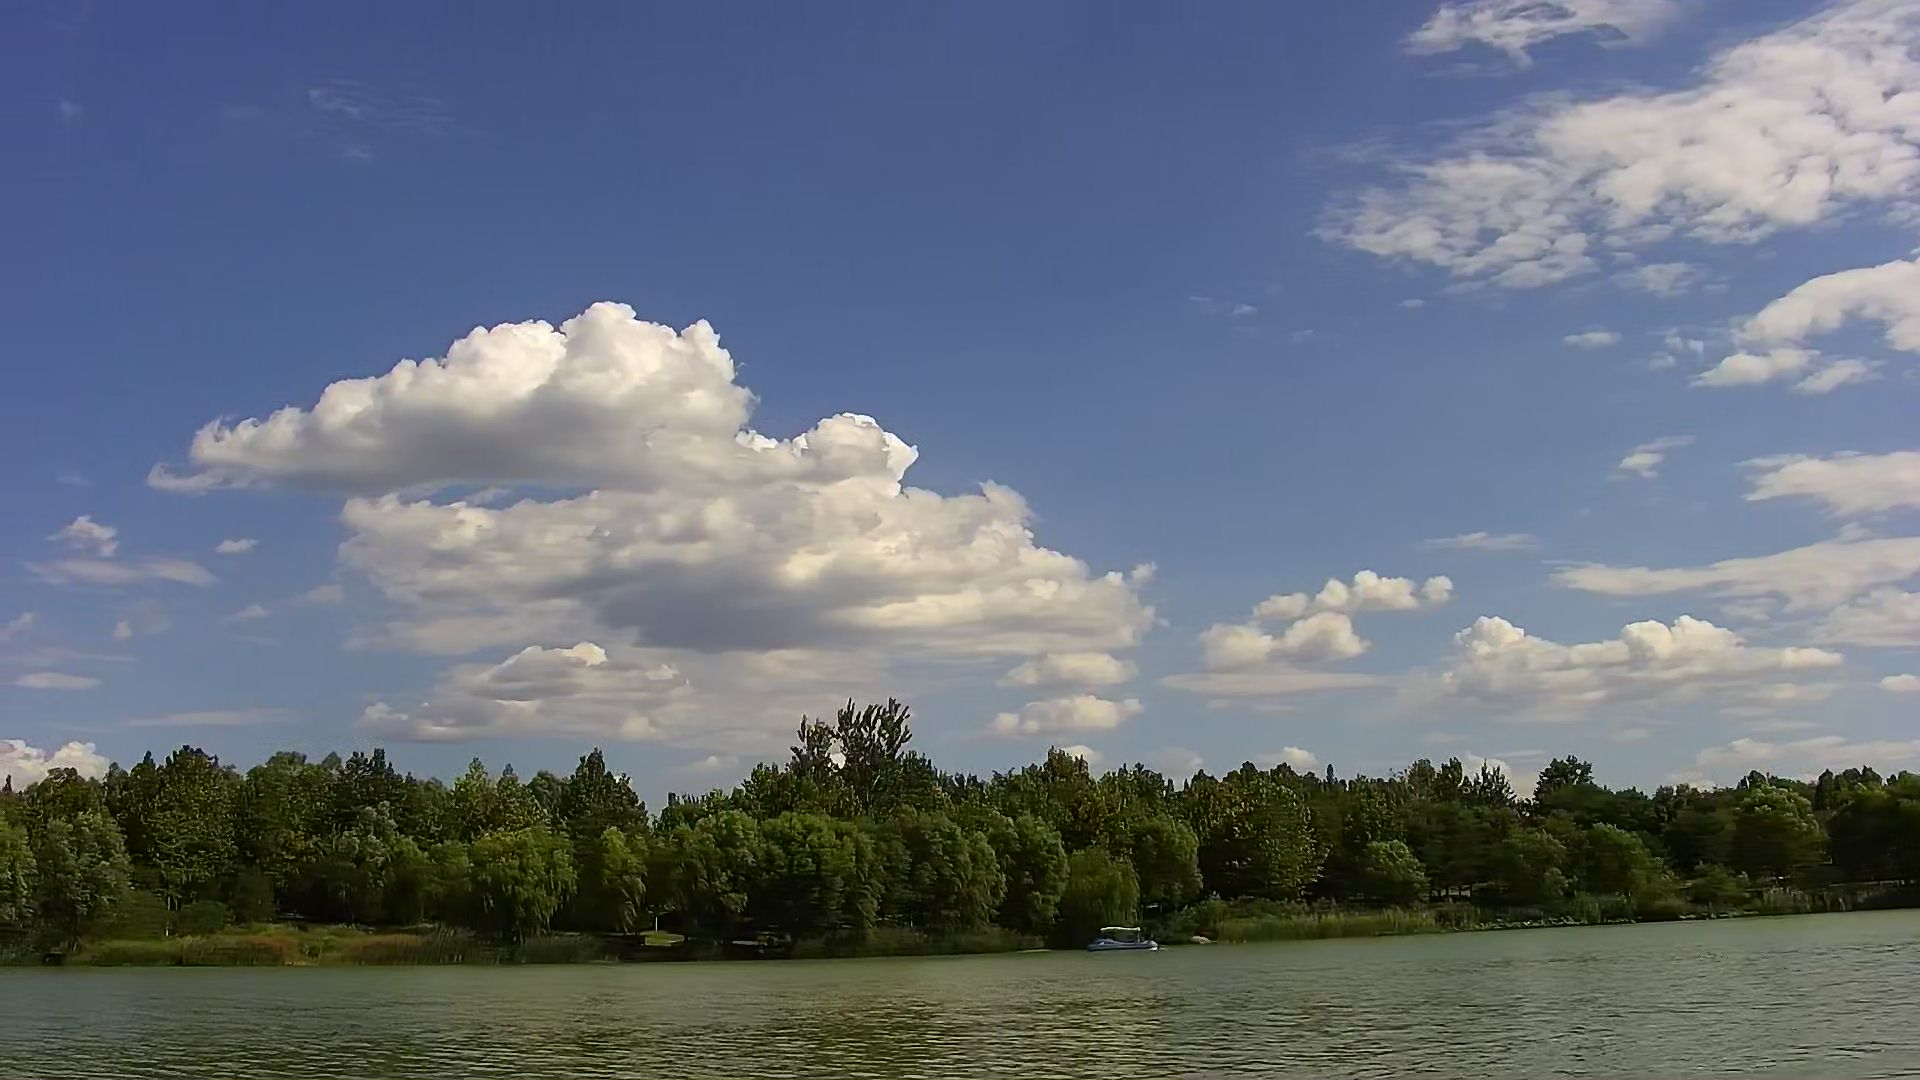boat: (1076, 916, 1172, 956)
